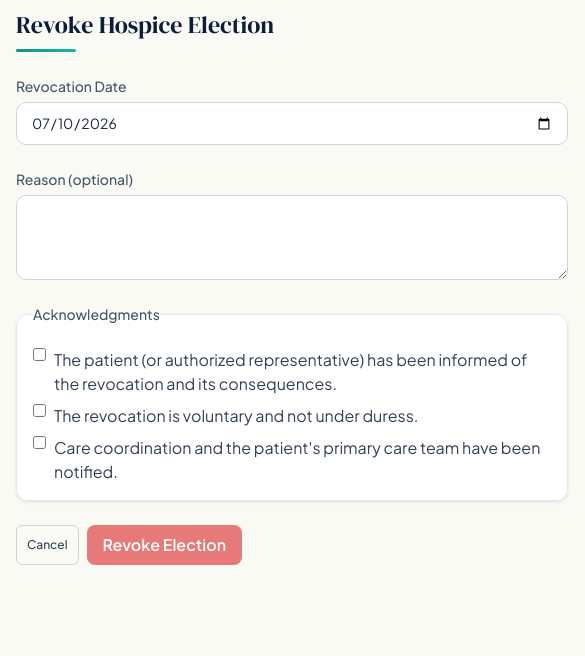
Test: HospiceRevocation › shows error if revokeElection rejects
This screenshot has width=585, height=656.
Click the 1st checkbox at point(40, 354), box [33,348,46,361]
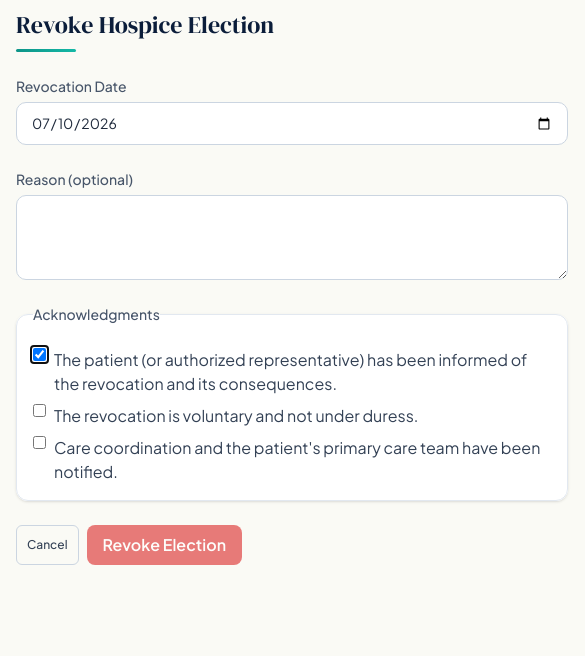
Click the checkbox labelled "The revocation is voluntary and not under duress." at point(40, 410), box [33,404,46,417]
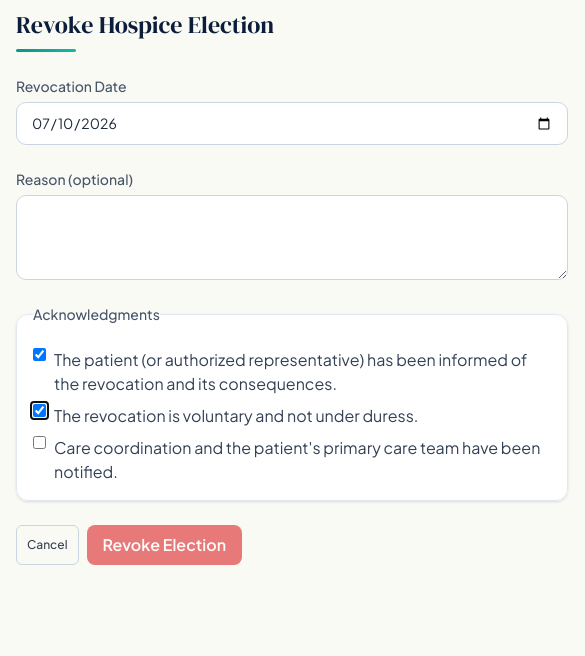
Click the 3rd checkbox at point(40, 442), box [33,436,46,449]
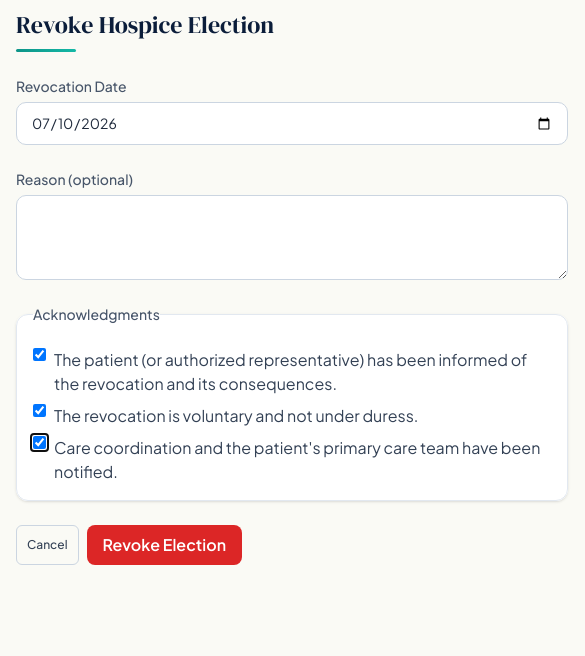
Click the button "Revoke Election" at point(164, 545), box [86,525,242,565]
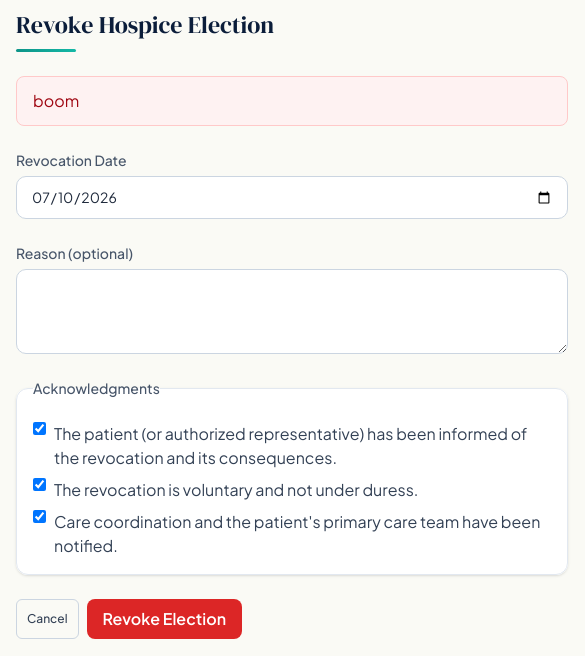
Expected: the message "boom" is shown, [16,76,568,126]
